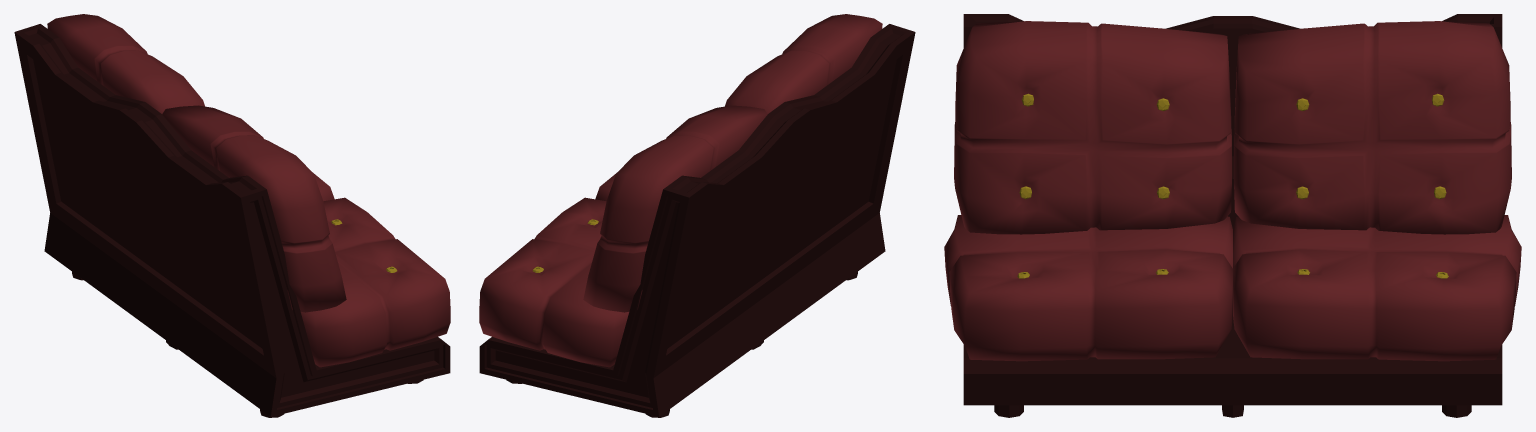
The model's file is sofaCTF.fbx.
3 views of the same model, side by side, from view 1: azimuth 30°, elevation 25°; view 2: azimuth 150°, elevation 25°; view 3: azimuth 270°, elevation 25° (orthographic). The views are drawn at different scales.
Parts seen in each view (by area): view 1: Cube, Cube.001; view 2: Cube, Cube.001; view 3: Cube.001, Cube, Cube.002.
Boxes of the visible parts, x1,y1,x2,y2 form: Cube: (14, 24, 450, 417); Cube.001: (47, 14, 450, 367); Cube: (479, 24, 915, 417); Cube.001: (479, 14, 882, 367); Cube.001: (944, 21, 1521, 361); Cube: (963, 14, 1502, 417); Cube.002: (1017, 93, 1448, 278).
Bounding box in the file's own units: 149 × 166 × 288.
